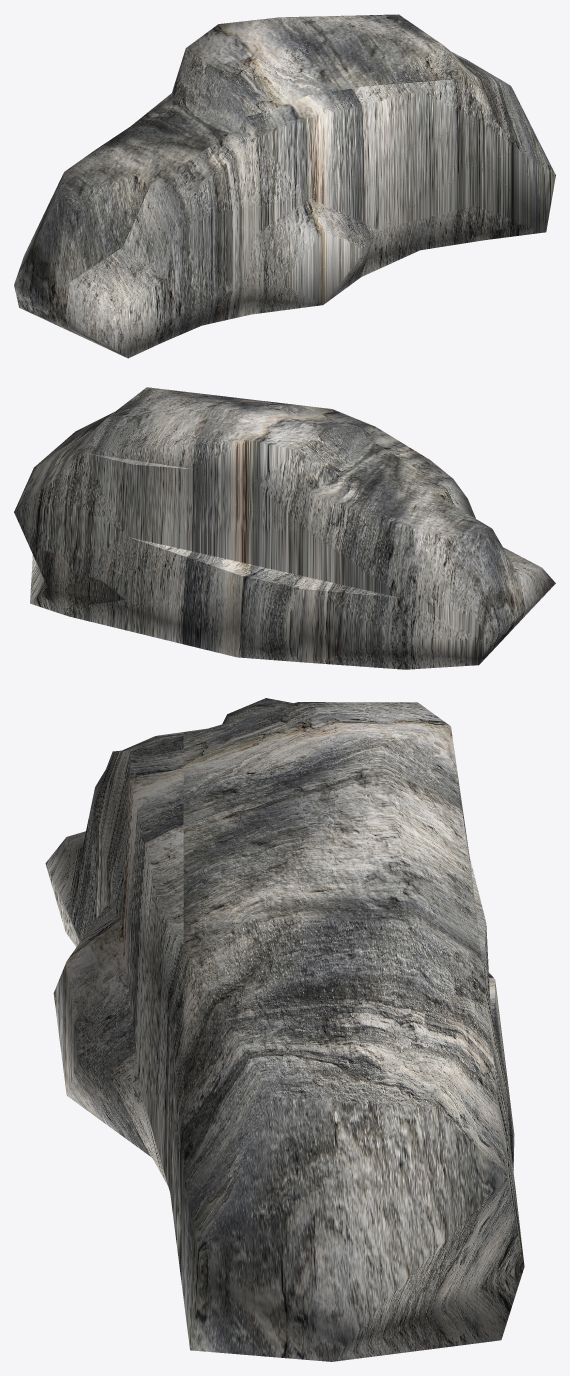
Rendered from PiedraUno.fbx.
3 renders of one model, top to bottom at view 1: azimuth 30°, elevation 25°; view 2: azimuth 150°, elevation 25°; view 3: azimuth 270°, elevation 25°, orthographic. The views are drawn at different scales.
Visible parts, largest first — view 1: Box006; view 2: Box006; view 3: Box006.
Boxes of the visible parts, box(x1,y1,x2,y2) form: Box006: box(14, 14, 555, 358); Box006: box(14, 387, 555, 669); Box006: box(45, 698, 524, 1361).
Bounding box in the file's own units: 1.09 × 0.4969 × 0.4929.
